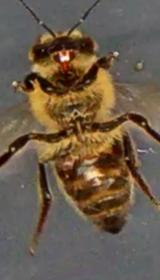varroa_mite: (52, 156, 76, 178)
